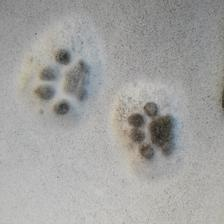cat: (26, 46, 95, 117), (121, 102, 177, 164)
